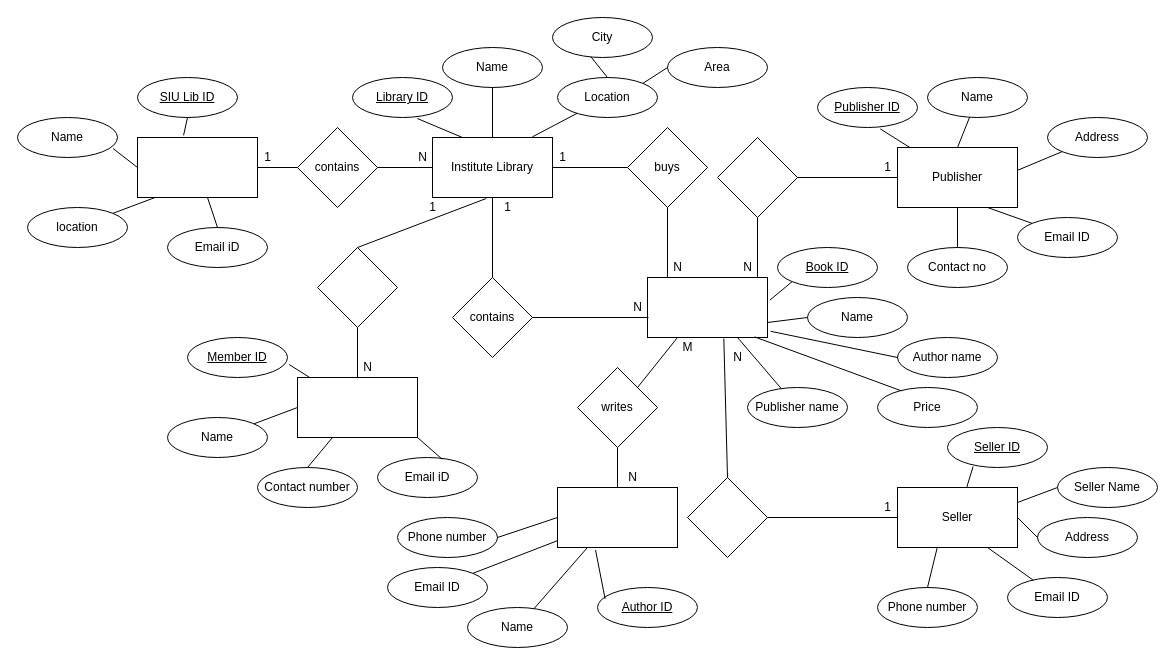
This 1175x665 diagram has some shape labels left out. Each missing label, with the box of its shape:
Author: (556, 486, 678, 548)
Book: (646, 276, 768, 338)
has: (316, 246, 398, 328)
Member: (296, 376, 418, 438)
Publishes: (716, 136, 798, 218)
sells: (686, 476, 768, 558)
SIU Library: (136, 136, 258, 198)
